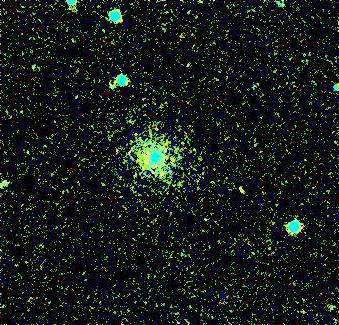star: (226, 173, 256, 203)
